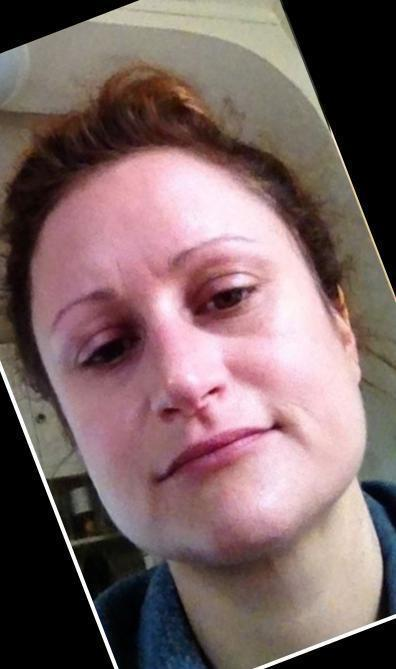Drunk: (33, 186, 353, 543)
